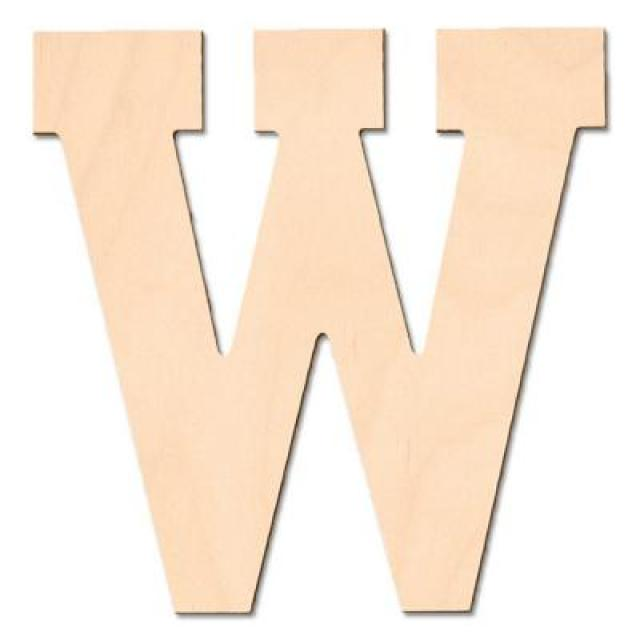W: (27, 14, 622, 640)
